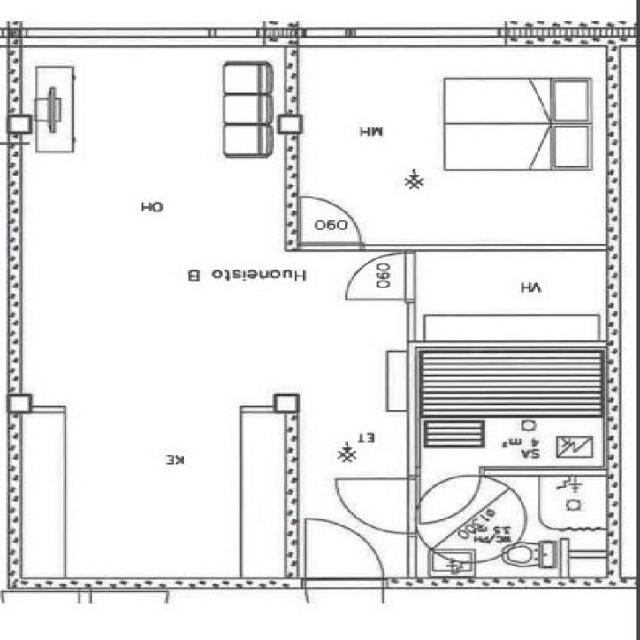door: (304, 516, 382, 587), (338, 479, 416, 532), (420, 467, 479, 521), (299, 198, 360, 250), (347, 252, 414, 299)
